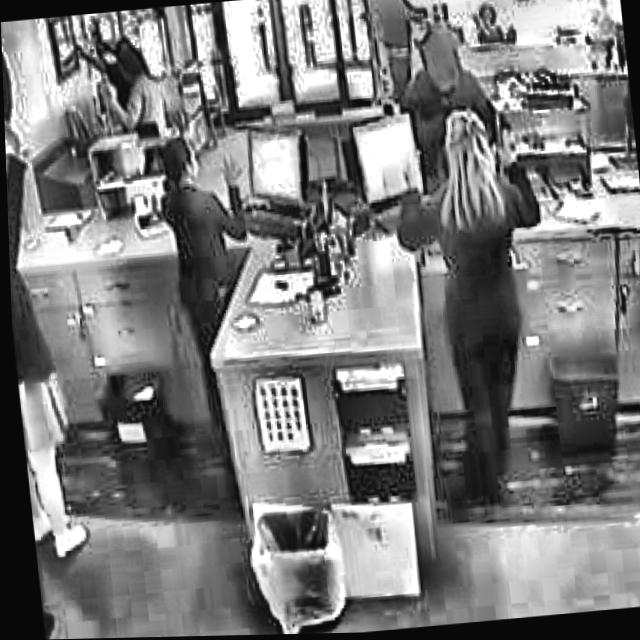robbery: (375, 97, 546, 261), (358, 0, 512, 159), (142, 130, 257, 256), (68, 15, 175, 143)
